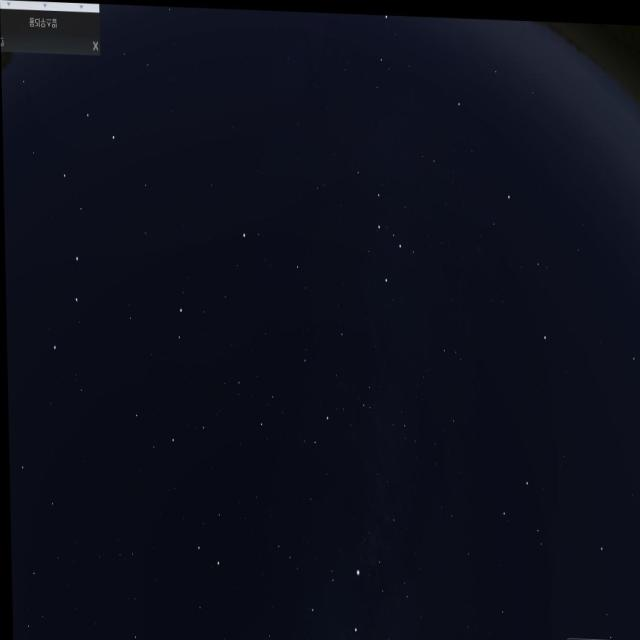cassiopeia: (342, 166, 412, 318)
ursa_major: (37, 104, 124, 381)
